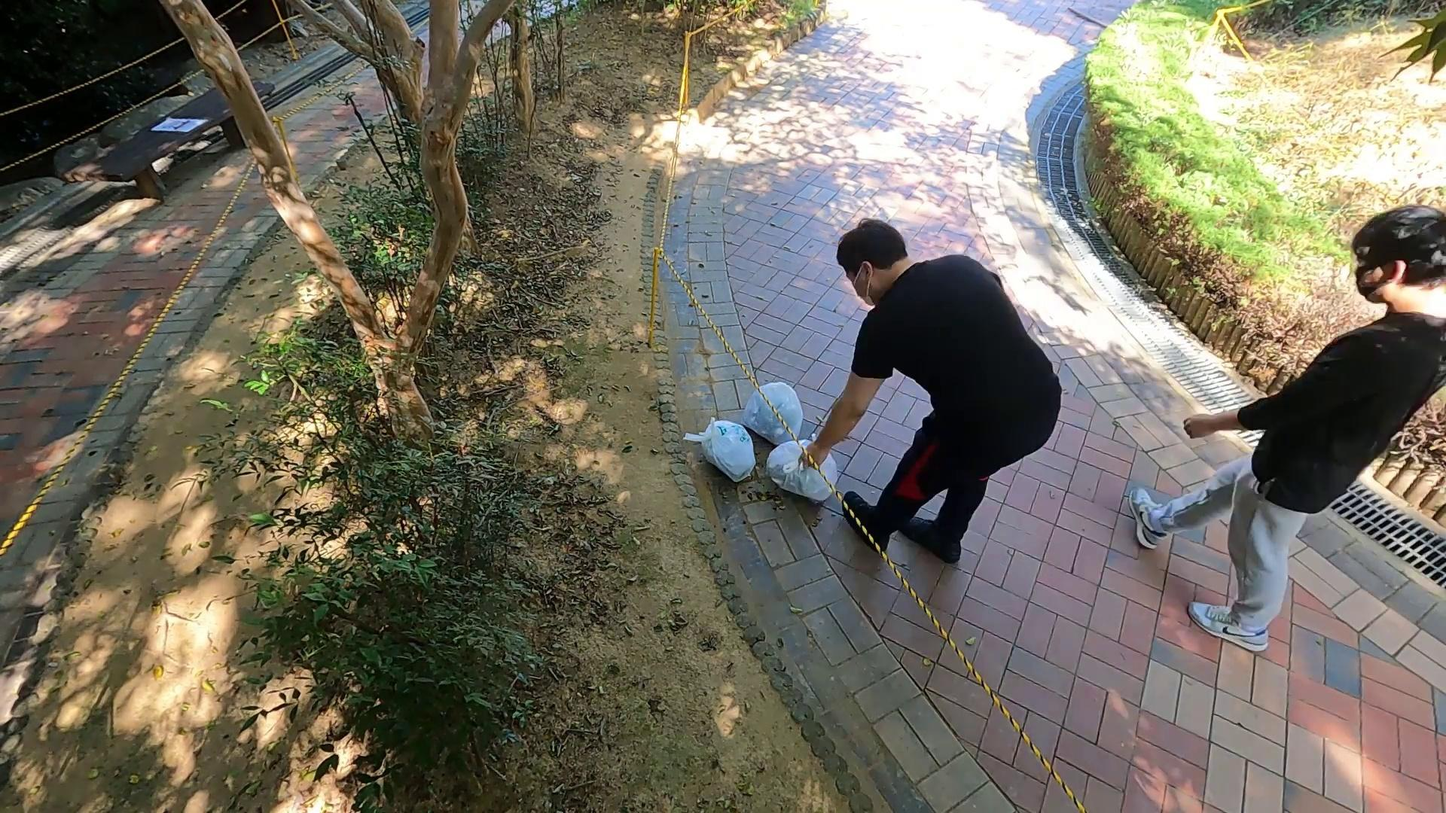person: (1125, 183, 1444, 663), (802, 208, 1071, 578)
trash: (764, 421, 843, 504), (738, 368, 805, 455), (686, 411, 758, 488)
